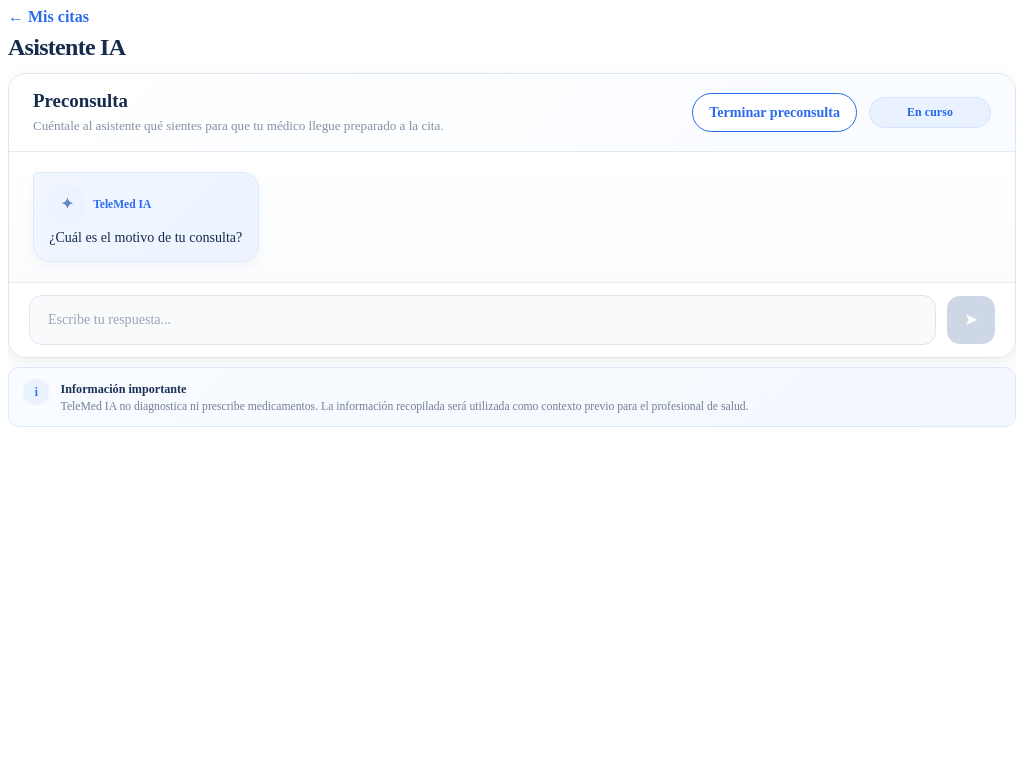
Test case: PreconsultationPageComponent › resumes a conversation in progress and sends the patient's answer
This screenshot has width=1024, height=768.
Type "Me duele la cabeza" into the field with placeholder "Escribe tu respuesta..." at (488, 320), box [46,296,929,342]
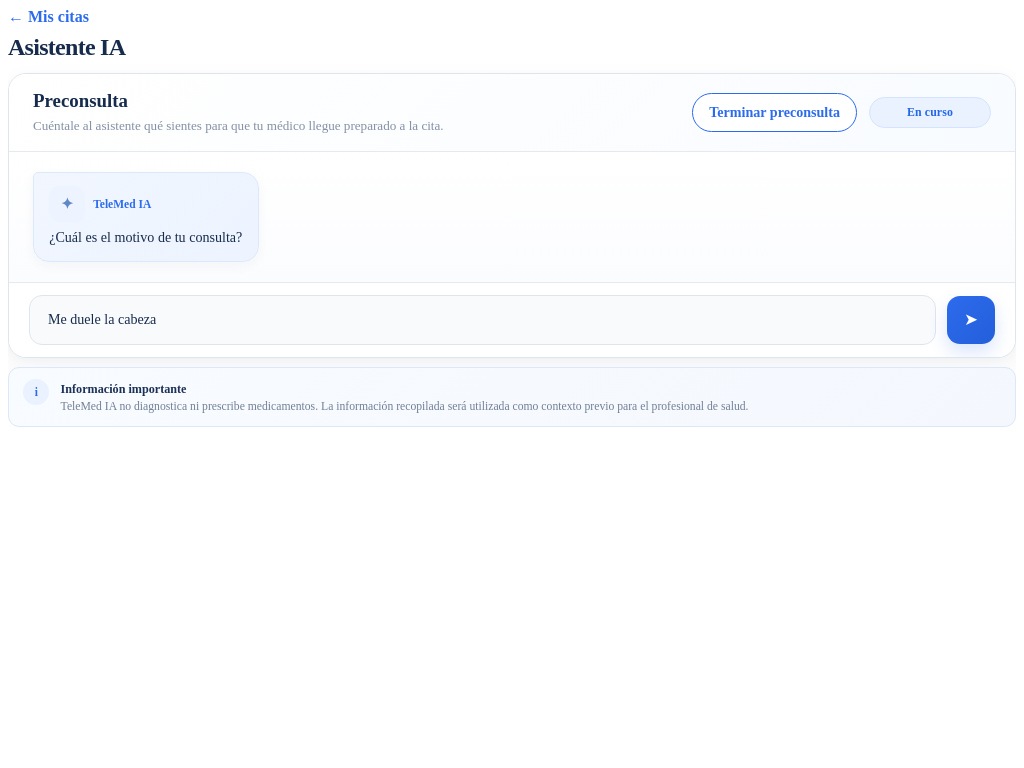
Click the button "➤" at (971, 320), box [947,296,995,344]
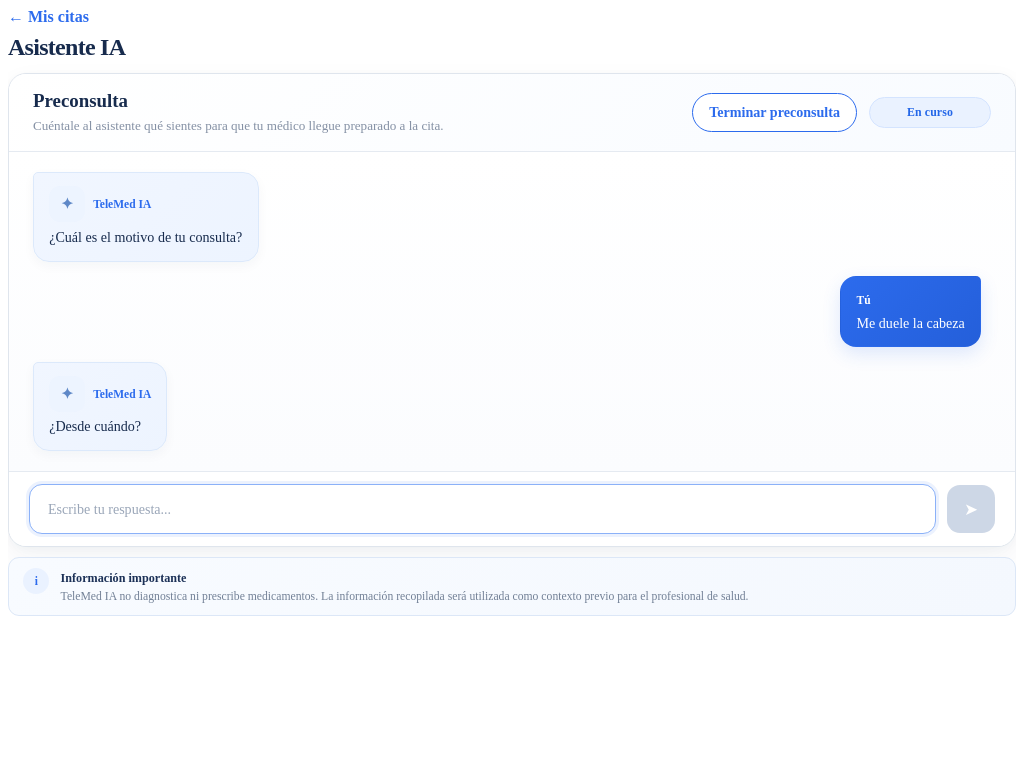
Now the element with test id "message" shows "Me duele la cabeza", box [856,314,965,330]
Now the element with test id "message" shows "¿Desde cuándo?", box [49,418,141,434]
